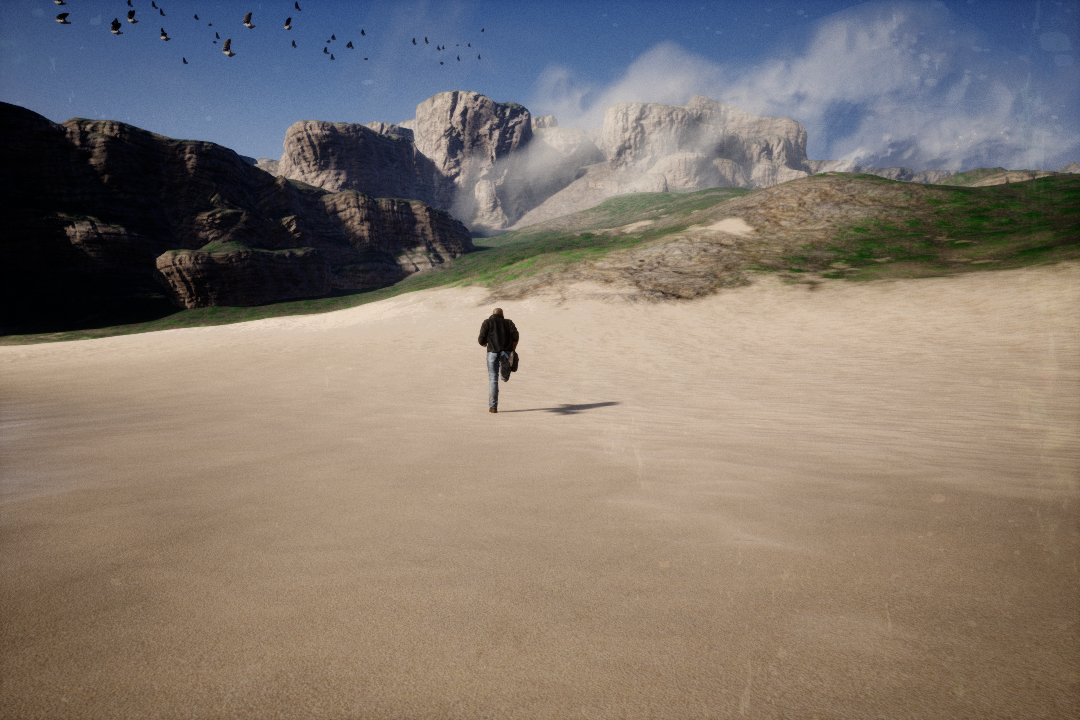person: (476, 301, 524, 418)
